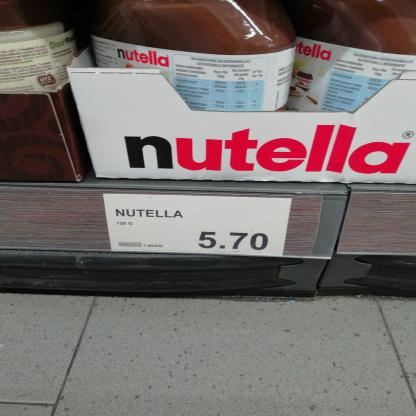prtg: (105, 196, 292, 257)
